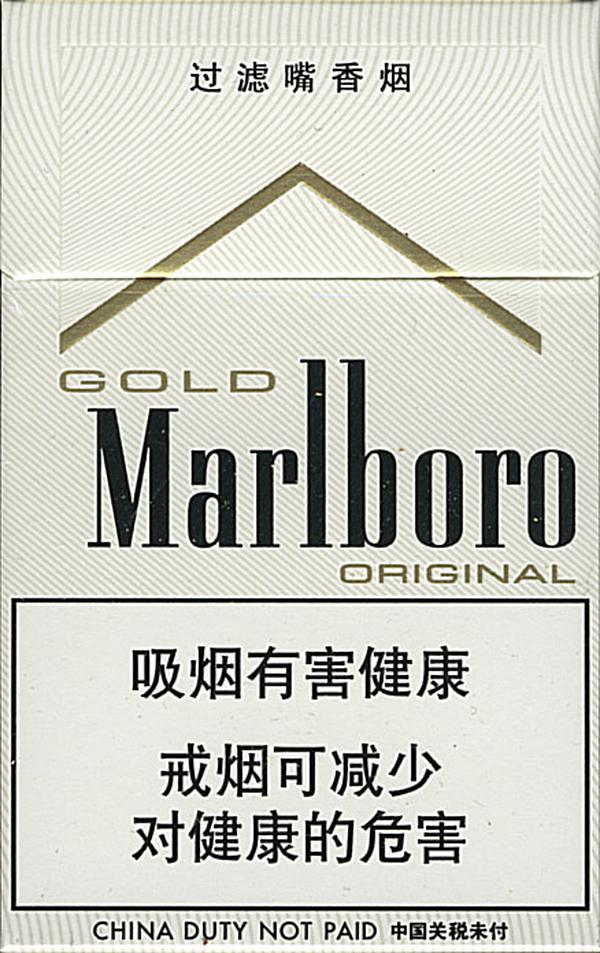marlboro_gold: (1, 3, 593, 947)
